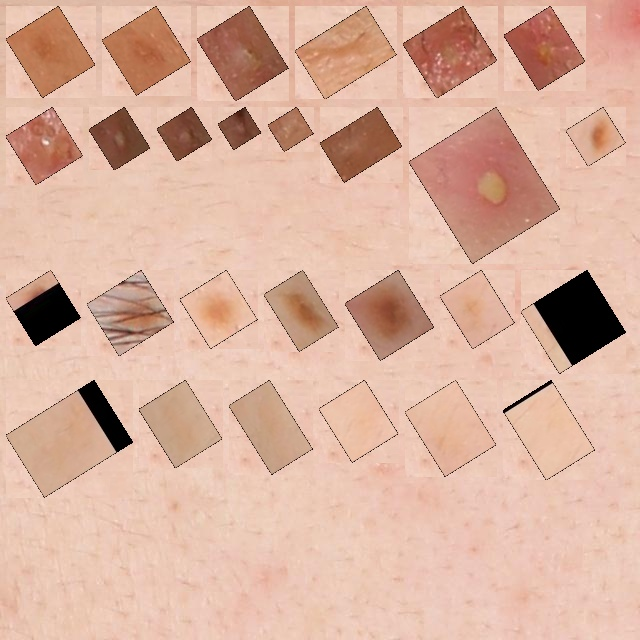hypertrophic_scar: (306, 17, 385, 88), (331, 118, 391, 171), (279, 118, 302, 140)
melasma: (17, 391, 122, 486), (532, 281, 615, 362), (514, 391, 584, 469), (416, 391, 485, 465), (17, 17, 84, 86), (113, 17, 180, 84), (240, 391, 302, 463), (150, 391, 211, 457), (330, 391, 387, 451), (451, 281, 503, 338)
nevus: (356, 281, 423, 349), (98, 281, 163, 345), (191, 281, 246, 337), (275, 281, 327, 340), (17, 281, 70, 335), (577, 118, 615, 155)
pustule: (420, 118, 549, 252), (414, 17, 486, 87), (208, 17, 277, 90), (515, 17, 574, 79), (17, 118, 72, 173), (100, 118, 139, 159), (168, 118, 201, 150), (229, 118, 250, 138)
